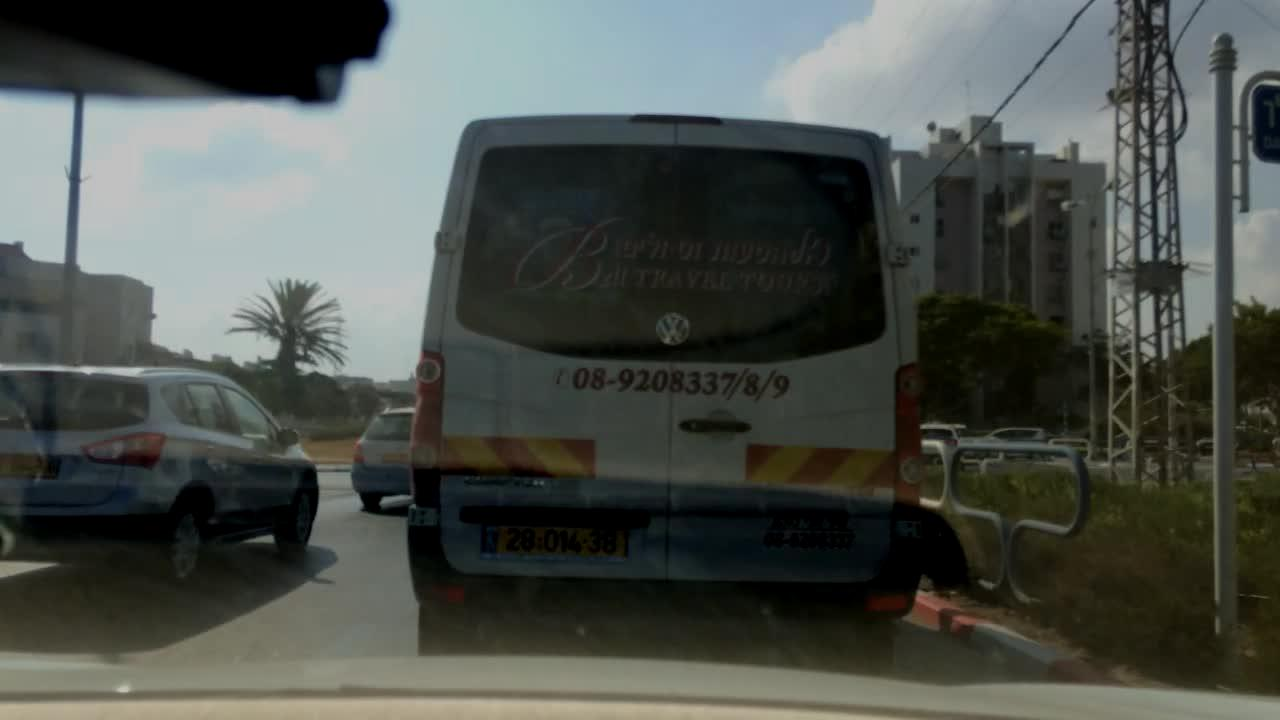Volkswagen: (651, 307, 697, 351)
